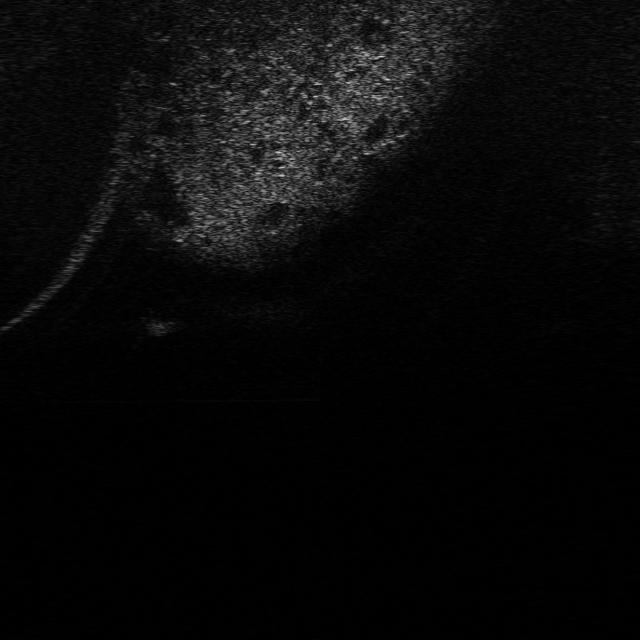cube: (128, 308, 182, 338)
